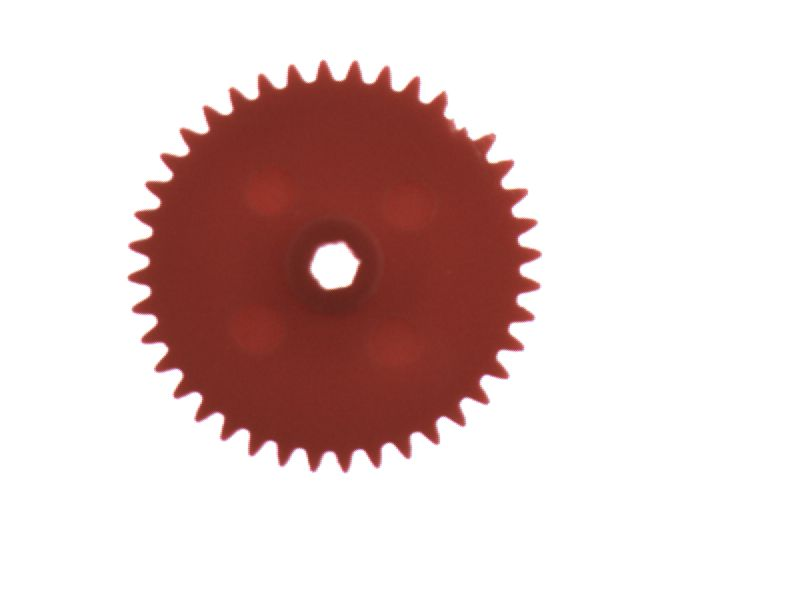defect_lack: (435, 88, 497, 141)
